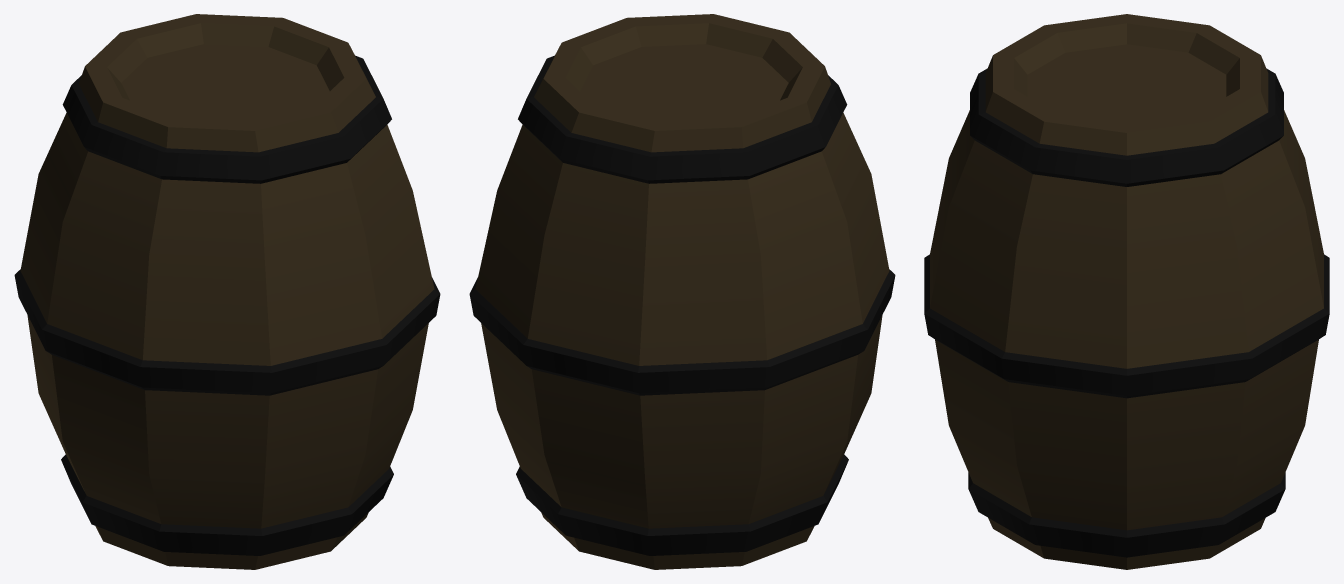
The model's file is SM_barrel.FBX.
3 renders of one model, left to right at view 1: azimuth 30°, elevation 25°; view 2: azimuth 150°, elevation 25°; view 3: azimuth 270°, elevation 25°, orthographic.
Visible parts, largest first — view 1: barrel; view 2: barrel; view 3: barrel.
Part boxes in pixels (x1,y1,x2,y2): barrel: (14, 14, 440, 569); barrel: (469, 14, 895, 569); barrel: (924, 14, 1329, 569).
Bounding box in the file's own units: 129 × 145 × 122.
